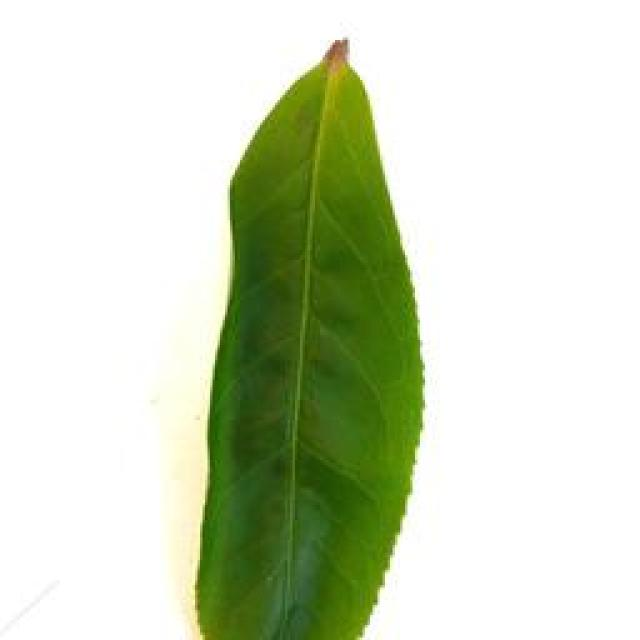Healthy: (191, 31, 423, 640)
